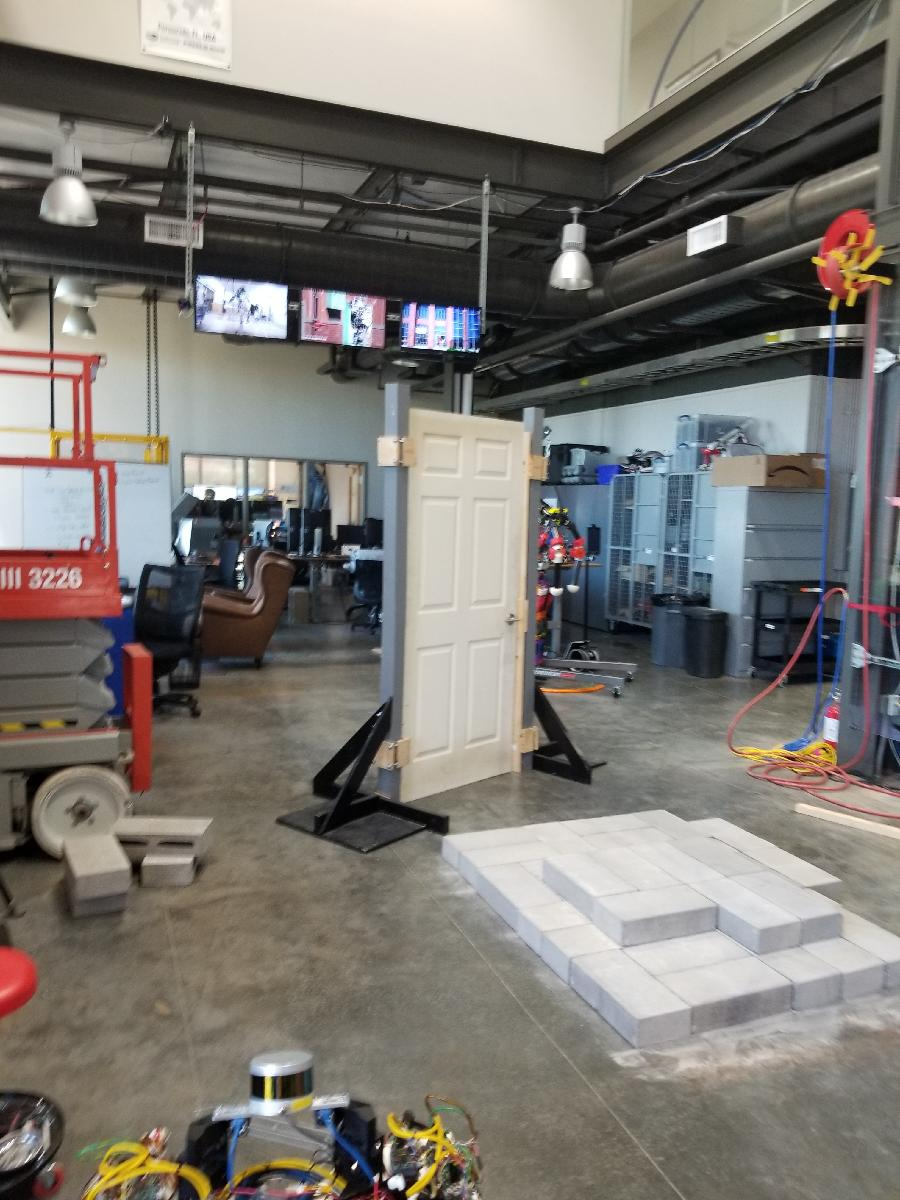door: (397, 407, 534, 805)
doorHandle: (502, 609, 525, 631)
